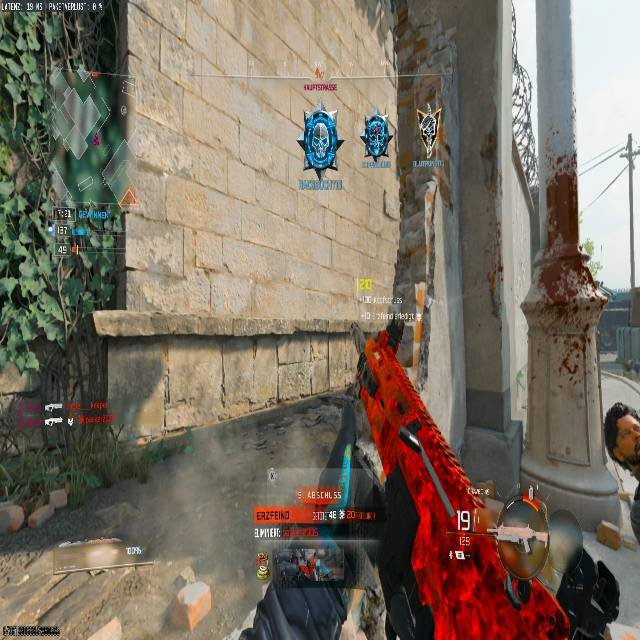head: (604, 404, 640, 465)
player: (599, 404, 640, 635), (296, 109, 341, 173)
